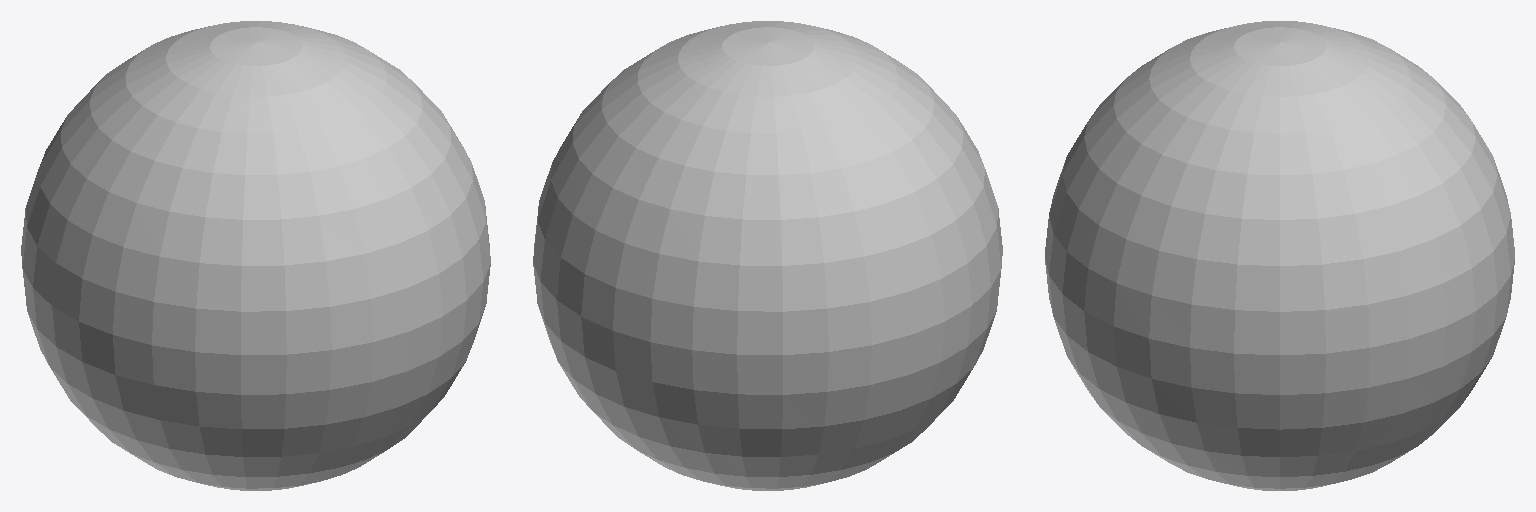
File: snowflake.obj
3 renders of one model, left to right at view 1: azimuth 30°, elevation 25°; view 2: azimuth 150°, elevation 25°; view 3: azimuth 270°, elevation 25°, orthographic.
Visible parts, largest first — view 1: Sphere; view 2: Sphere; view 3: Sphere.
Boxes of the visible parts, box(x1,y1,x2,y2) form: Sphere: box(21, 21, 490, 490); Sphere: box(533, 21, 1002, 490); Sphere: box(1045, 21, 1514, 490).
Size of the model in its own units: 0.0109 by 0.0109 by 0.0109.